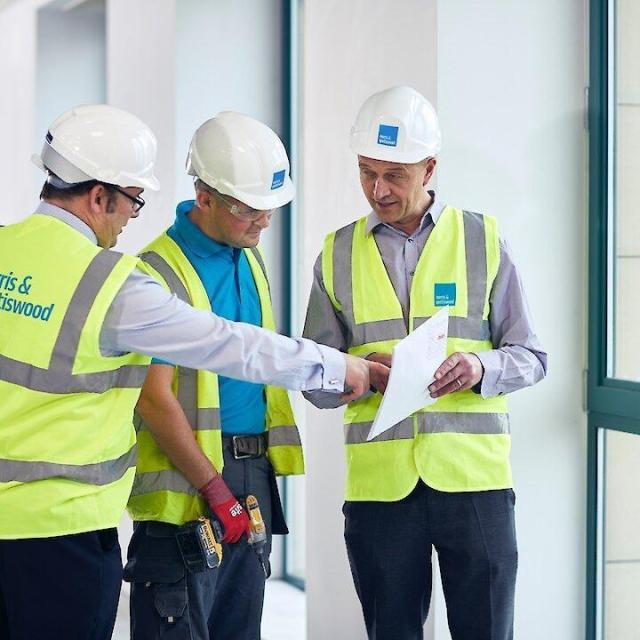Vest: (321, 217, 536, 496), (140, 236, 312, 530), (5, 224, 143, 549)
